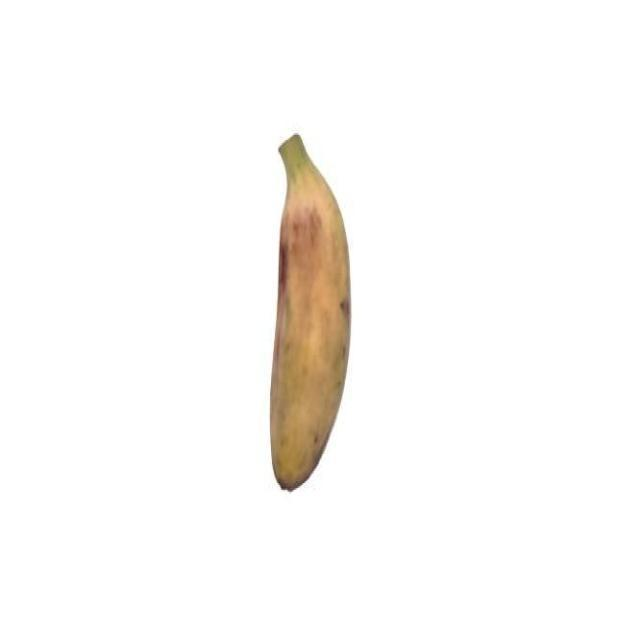Banana: (264, 118, 356, 498)
